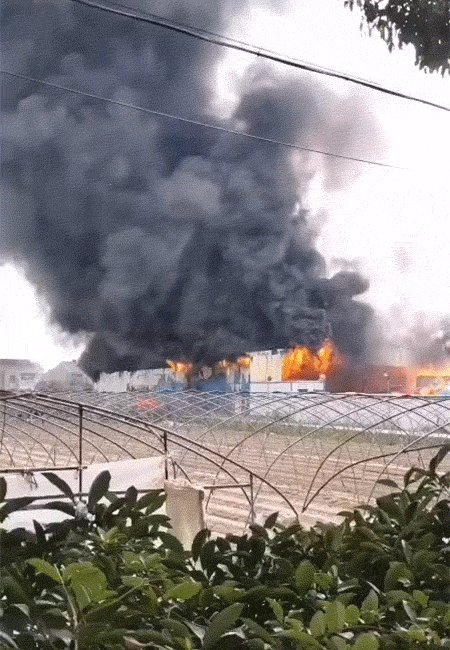fire: (169, 338, 420, 400)
smoke: (4, 10, 392, 329)
